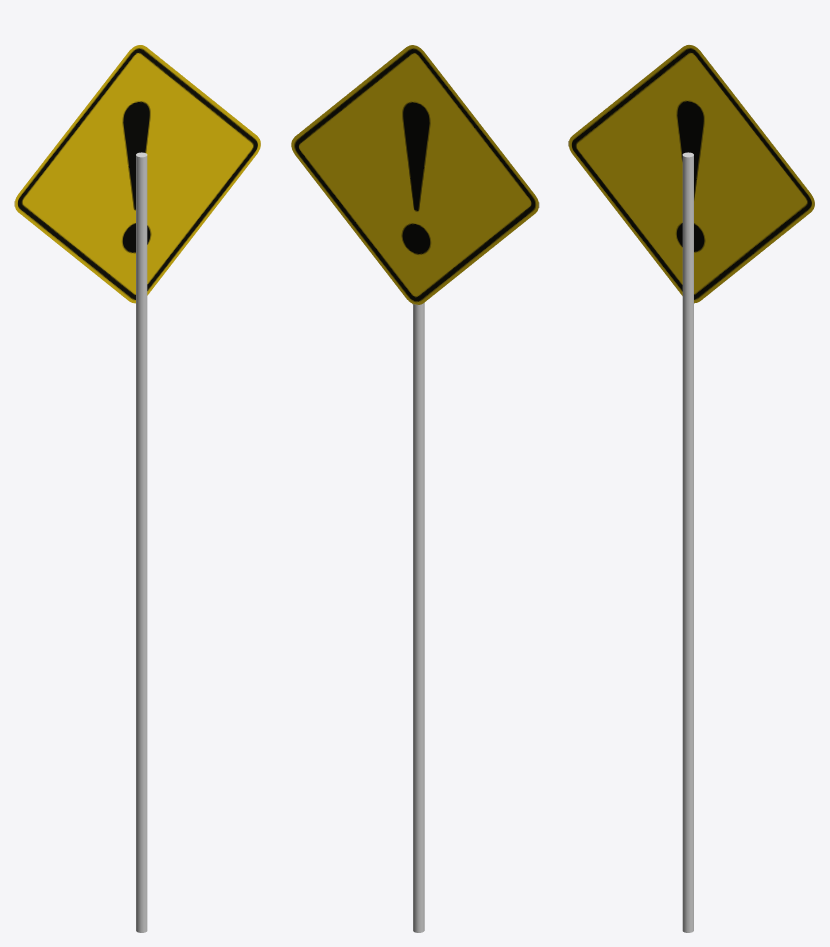
Rendered from awas.fbx.
The picture shows the model from 3 angles, left to right: view 1: azimuth 30°, elevation 25°; view 2: azimuth 150°, elevation 25°; view 3: azimuth 330°, elevation 25°; orthographic projection.
Parts seen in each view (by area): view 1: Plane, Cylinder; view 2: Plane, Cylinder; view 3: Plane, Cylinder.
Boxes of the visible parts, bbox=[...] form: Plane: bbox=[14, 45, 260, 303]; Cylinder: bbox=[136, 152, 147, 932]; Plane: bbox=[291, 45, 539, 305]; Cylinder: bbox=[413, 303, 424, 932]; Plane: bbox=[568, 45, 814, 303]; Cylinder: bbox=[682, 152, 693, 932].
Bounding box in the file's own units: 200 × 682 × 9.27.
